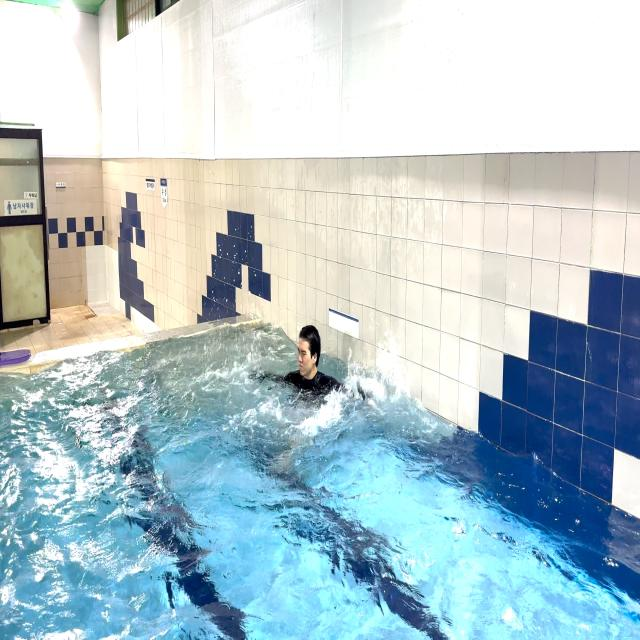Swimming: (238, 309, 393, 433)
